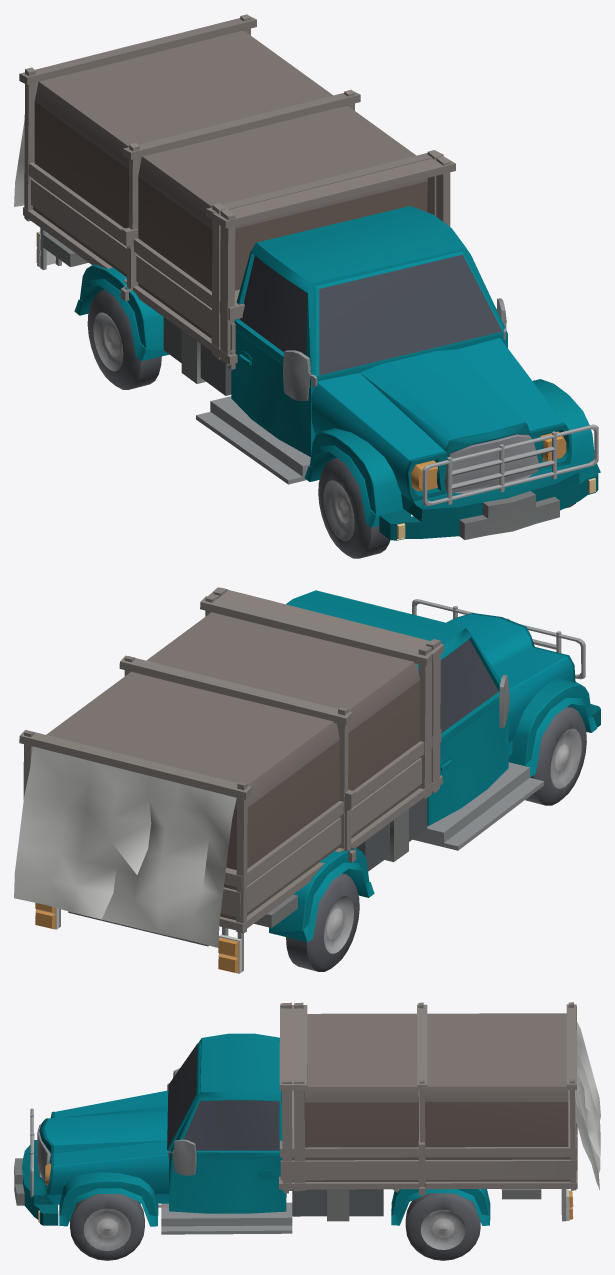
File: TruckM.gltf
3 views of the same model, one above another, from view 1: azimuth 30°, elevation 25°; view 2: azimuth 150°, elevation 25°; view 3: azimuth 270°, elevation 25° (orthographic). The views are drawn at different scales.
Visible parts, largest first — view 1: body, wheel_11, wheel_5, wheel_6, wheel_12; view 2: body, wheel_5, wheel_11, wheel_6, wheel_12, wheel_10; view 3: body, wheel_14, wheel_8, wheel_9, wheel_15.
Part boxes in pixels (x1=…): body: x1=14, y1=14, x2=600, y2=540; wheel_11: x1=87, y1=290, x2=140, y2=389; wheel_5: x1=318, y1=459, x2=371, y2=558; wheel_6: x1=323, y1=480, x2=354, y2=541; wheel_12: x1=93, y1=312, x2=123, y2=371; body: x1=14, y1=587, x2=600, y2=973; wheel_5: x1=533, y1=708, x2=586, y2=805; wheel_11: x1=306, y1=874, x2=359, y2=971; wheel_6: x1=550, y1=728, x2=581, y2=788; wheel_12: x1=324, y1=896, x2=353, y2=953; wheel_10: x1=286, y1=873, x2=345, y2=971; body: x1=14, y1=1002, x2=600, y2=1238; wheel_14: x1=405, y1=1193, x2=480, y2=1260; wheel_8: x1=70, y1=1194, x2=144, y2=1260; wheel_9: x1=83, y1=1208, x2=131, y2=1250; wheel_15: x1=420, y1=1209, x2=465, y2=1249.
Size of the model in its own units: 2.96 by 2.72 by 7.87.
Materials: 1 (1 with a texture image).
